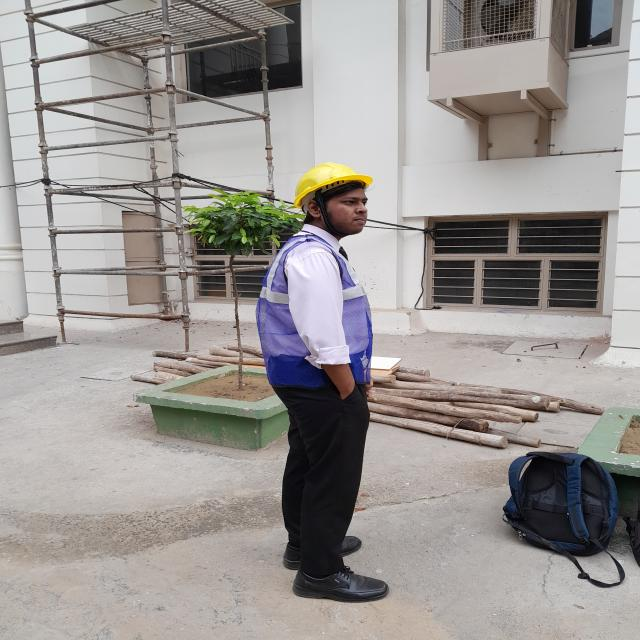safe: (256, 162, 382, 602)
